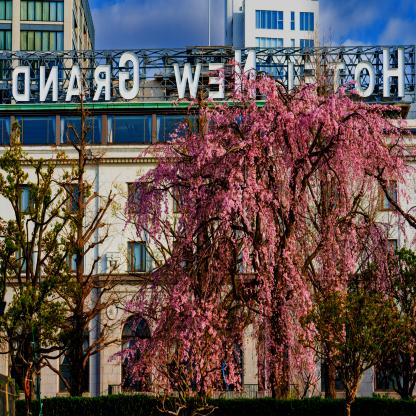ShidareZakura: (101, 56, 416, 416)
